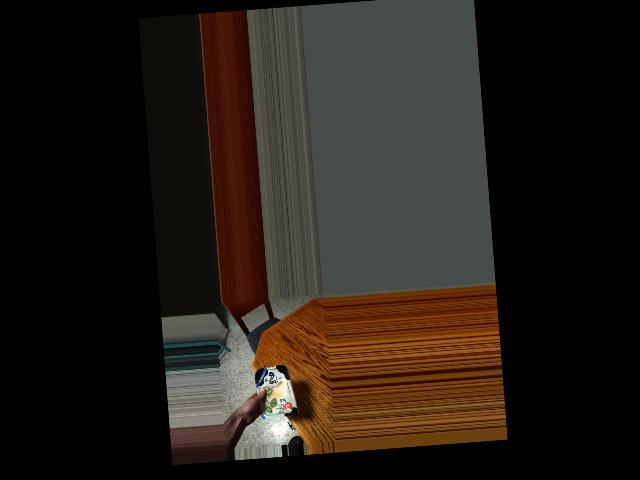cheese: (254, 366, 294, 415)
